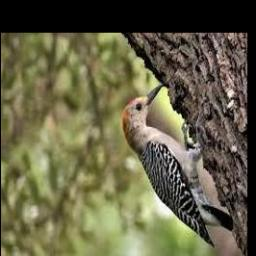Woodpecker: (122, 83, 234, 247)
